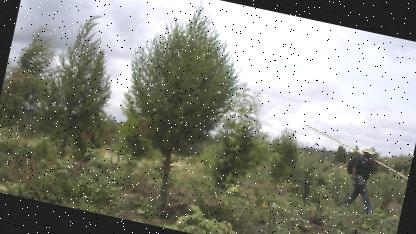person: (334, 134, 388, 216)
tree: (98, 0, 259, 221), (32, 3, 130, 169)
